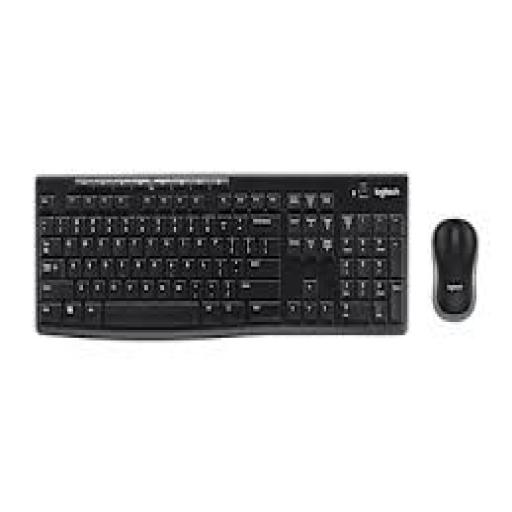KEYBOARD-2: (36, 174, 405, 333)
